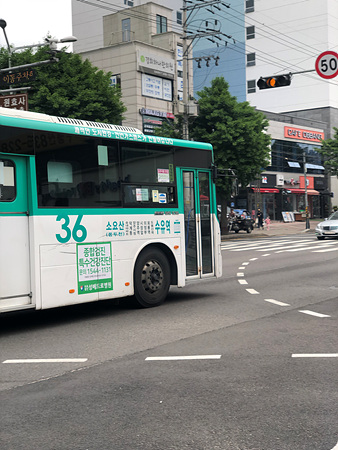entrance: (179, 163, 217, 280)
